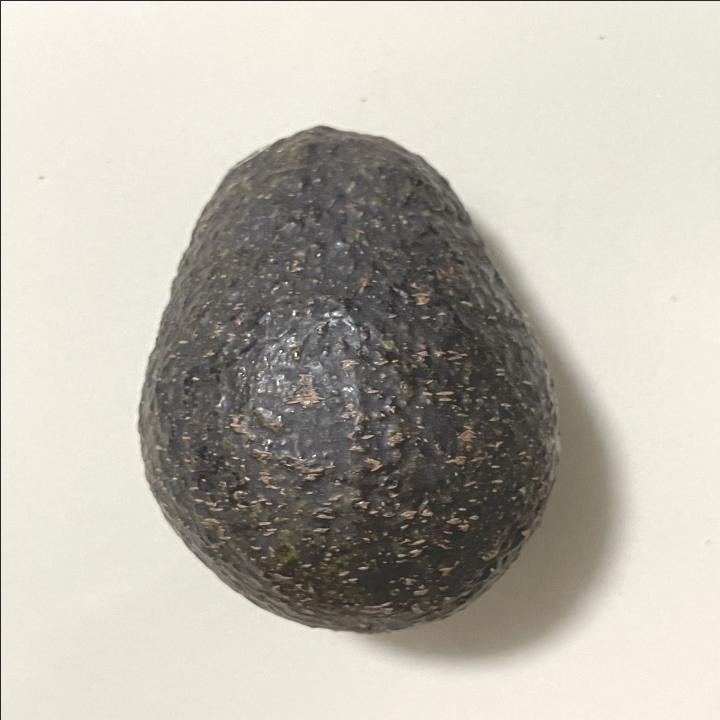Level1: (113, 104, 575, 644)
